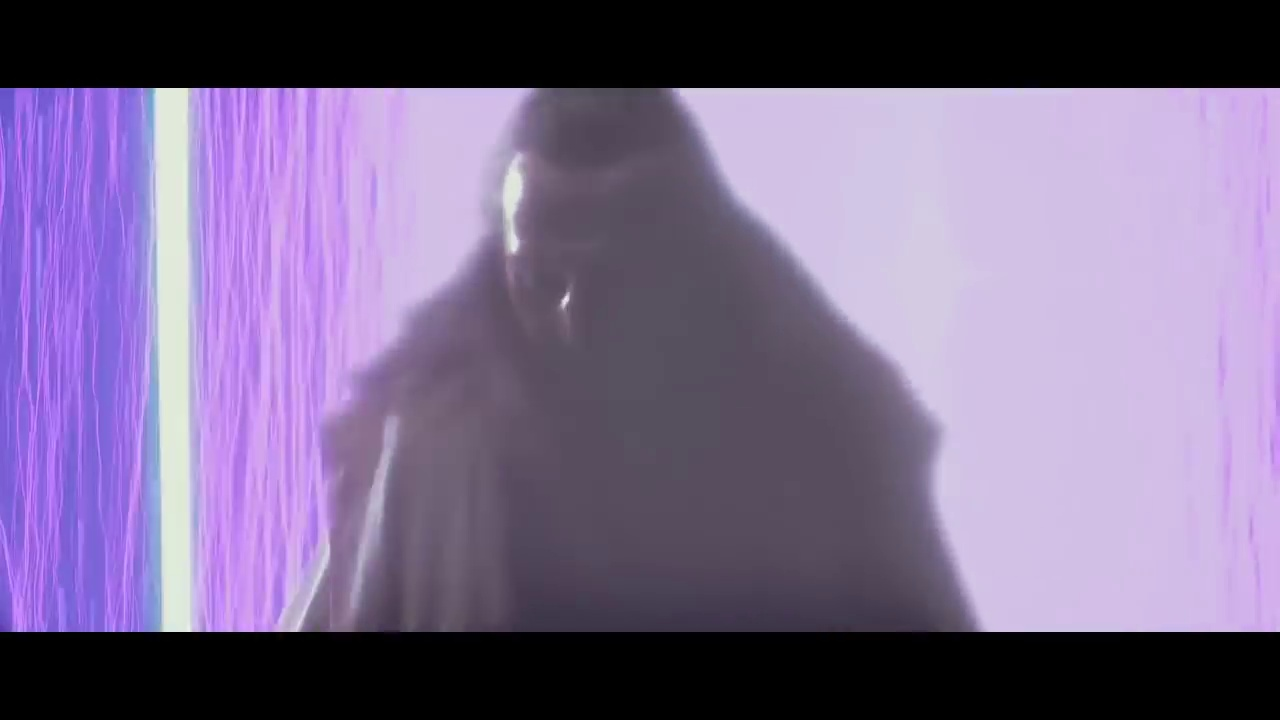lightsaber: (147, 88, 198, 629)
